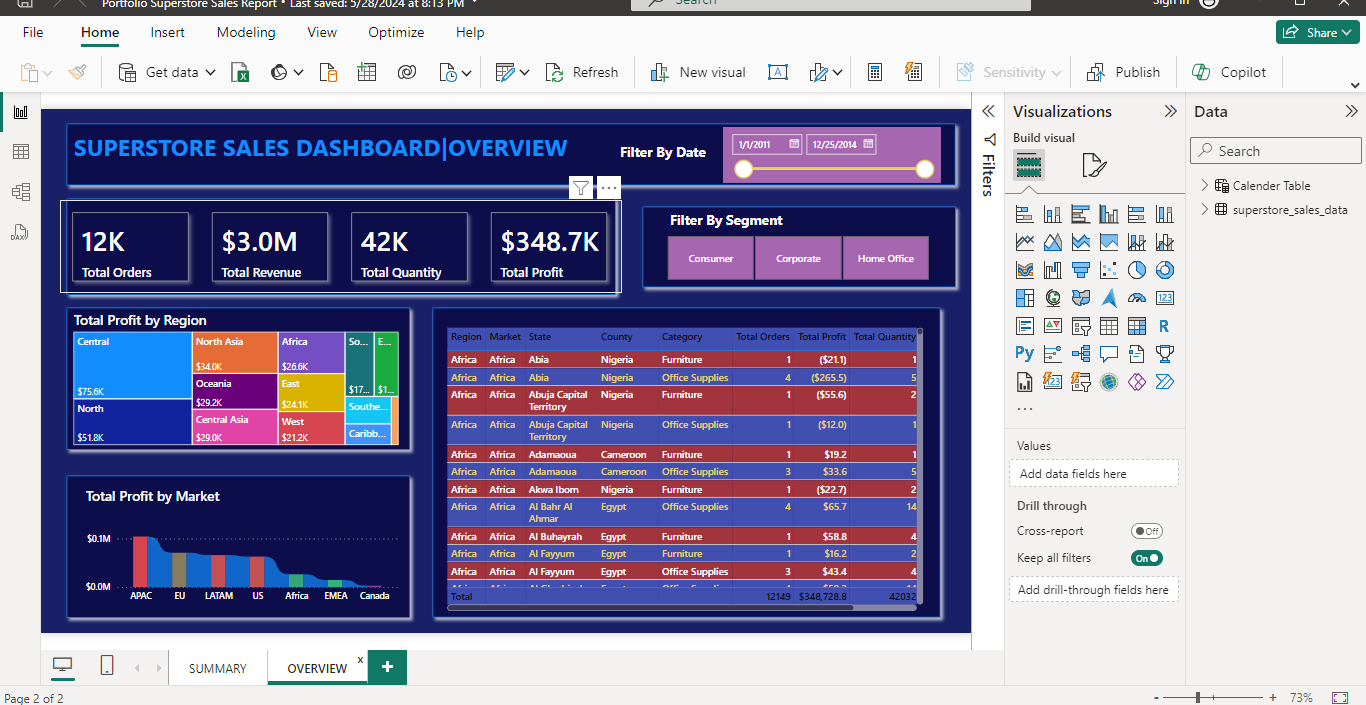

The page's visual inventory and layout, read from the dashboard file:
{"tool":"powerbi","page":{"name":"OVERVIEW","canvas":[1280,720],"ordinal":1},"visuals":[{"type":"shape","box":[26.2,10.8,1241.5,103.1],"z":0},{"type":"textbox","box":[36.9,24.6,740,76.9],"z":1000},{"type":"shape","box":[26.2,113.8,773.8,150.8],"z":2000},{"type":"shape","box":[818.5,124.6,449.2,129.2],"z":9000},{"type":"textbox","box":[860,135.4,229.2,43.1],"z":10000},{"type":"textbox","box":[776.9,41.5,152.3,43.1],"z":11000},{"type":"cardVisual","fields":{"Data":["SuperStore_Sales_Marketing.Total Orders","SuperStore_Sales_Marketing.Total Profits","SuperStore_Sales_Marketing.Total Quantity","SuperStore_Sales_Marketing.Total Revenue"]},"box":[26.2,124.6,773.8,129.2],"z":12000},{"type":"slicer","fields":{"Values":["SuperStore_Sales_Marketing.Segment"]},"box":[836.9,167.7,409.2,73.8],"z":19000},{"type":"slicer","fields":{"Values":["Calender table.Date"]},"box":[938.5,24.6,300,76.9],"z":20000},{"type":"shape","box":[26.2,264.6,490.8,213.8],"z":20001},{"type":"shape","box":[26.2,495.4,490.8,213.8],"z":20002},{"type":"shape","box":[529.2,264.6,716.9,444.6],"z":20003},{"type":"treemap","fields":{"Group":["SuperStore_Sales_Marketing.Region"],"Values":["SuperStore_Sales_Marketing.Total Profits"]},"box":[40,276.9,456.9,190.8],"z":20004},{"type":"ribbonChart","fields":{"Y":["SuperStore_Sales_Marketing.Total Profits"],"Category":["SuperStore_Sales_Marketing.Market"]},"box":[56.9,518.5,440,169.2],"z":20005},{"type":"tableEx","fields":{"Values":["SuperStore_Sales_Marketing.Market","SuperStore_Sales_Marketing.State","SuperStore_Sales_Marketing.County","SuperStore_Sales_Marketing.Category","SuperStore_Sales_Marketing.Total Orders","SuperStore_Sales_Marketing.Total Quantity","SuperStore_Sales_Marketing.Total Revenue"]},"box":[553.8,295.4,666.2,400],"z":20006}]}

Visuals, with their boxes on the page's 1280x720 design canvas (x1, y1, x2, y2). These are canvas units, not pixel positions in the 1366x705 screenshot, which may show the page scaled, cropped or inside an application window:
shape: <box>26,11,1268,114</box>
textbox: <box>37,25,777,102</box>
shape: <box>26,114,800,265</box>
shape: <box>818,125,1268,254</box>
textbox: <box>860,135,1089,178</box>
textbox: <box>777,42,929,85</box>
cardVisual - SuperStore_Sales_Marketing.Total Orders x SuperStore_Sales_Marketing.Total Profits: <box>26,125,800,254</box>
slicer - SuperStore_Sales_Marketing.Segment: <box>837,168,1246,242</box>
slicer - Calender table.Date: <box>938,25,1238,102</box>
shape: <box>26,265,517,478</box>
shape: <box>26,495,517,709</box>
shape: <box>529,265,1246,709</box>
treemap - SuperStore_Sales_Marketing.Region x SuperStore_Sales_Marketing.Total Profits: <box>40,277,497,468</box>
ribbonChart - SuperStore_Sales_Marketing.Total Profits x SuperStore_Sales_Marketing.Market: <box>57,518,497,688</box>
tableEx - SuperStore_Sales_Marketing.Market x SuperStore_Sales_Marketing.State: <box>554,295,1220,695</box>
